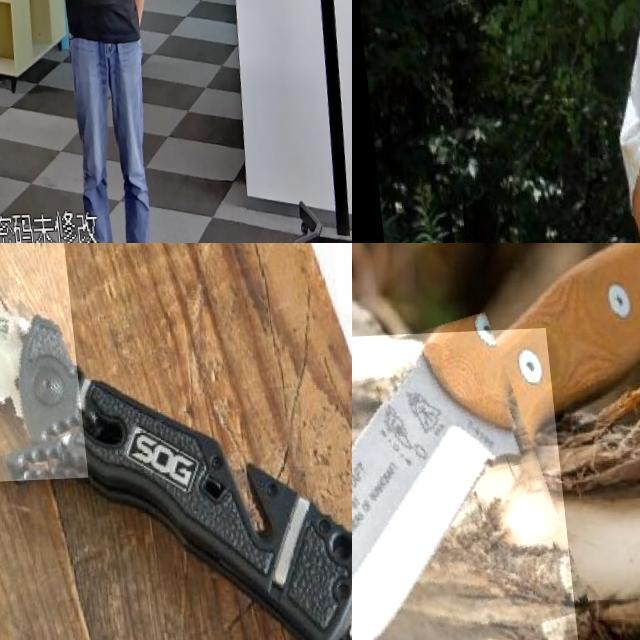-: (352, 332, 568, 640), (0, 243, 154, 490)
gun-knife-thesis - v11 Yolov5 augmented: (71, 0, 106, 46)
